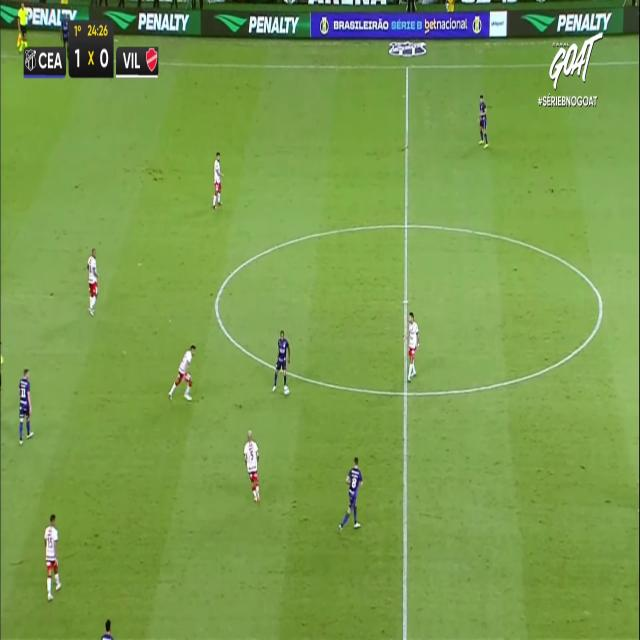ball: (283, 381, 291, 398)
player: (338, 456, 362, 532), (168, 343, 196, 401), (44, 514, 61, 600), (243, 429, 260, 502), (272, 329, 290, 394), (19, 368, 33, 445), (406, 310, 419, 380), (86, 247, 99, 315), (212, 151, 223, 208), (478, 94, 488, 147)
referee: (16, 0, 31, 56)
